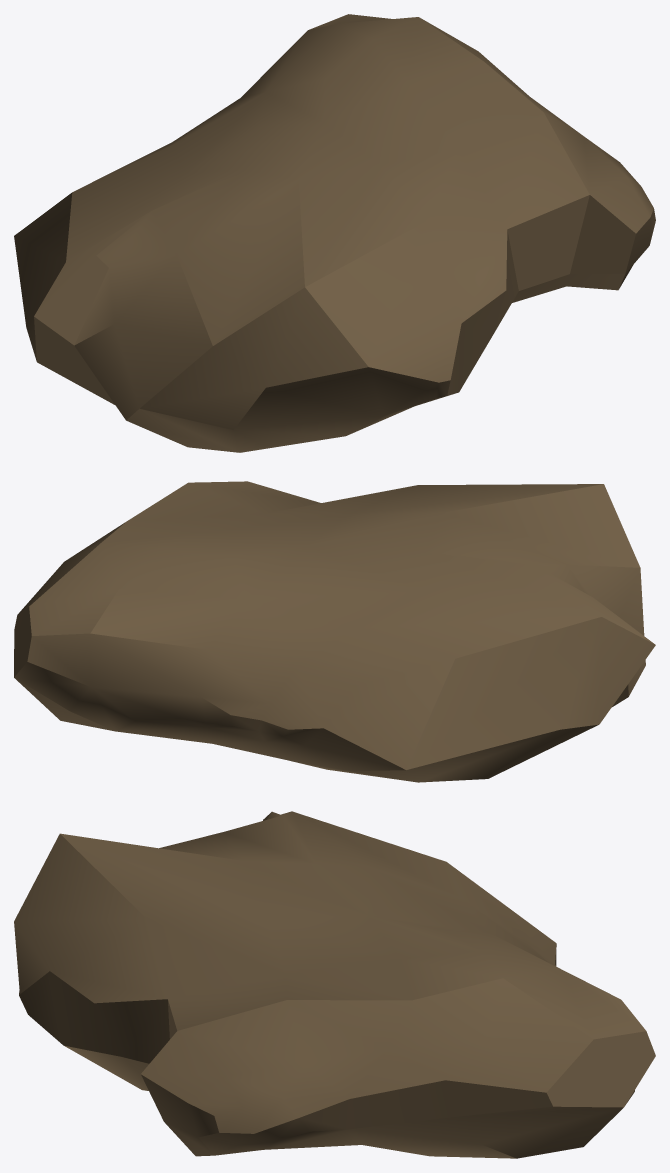
File: Moss 2 DQ.fbx
3 renders of one model, top to bottom at view 1: azimuth 30°, elevation 25°; view 2: azimuth 150°, elevation 25°; view 3: azimuth 270°, elevation 25°, orthographic. The views are drawn at different scales.
Visible parts, largest first — view 1: Mball.002; view 2: Mball.002; view 3: Mball.002.
Boxes of the visible parts, x1=… form: Mball.002: x1=14, y1=14, x2=655, y2=452; Mball.002: x1=14, y1=481, x2=655, y2=782; Mball.002: x1=14, y1=811, x2=655, y2=1158.
Size of the model in its own units: 72.77 by 29.2 by 69.72.
